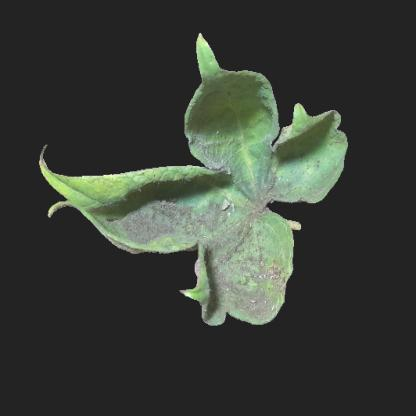curl_stage1: (292, 136, 334, 184), (58, 174, 125, 198)
sooty: (126, 177, 233, 243), (217, 229, 293, 308), (233, 157, 282, 221), (198, 94, 236, 155)
